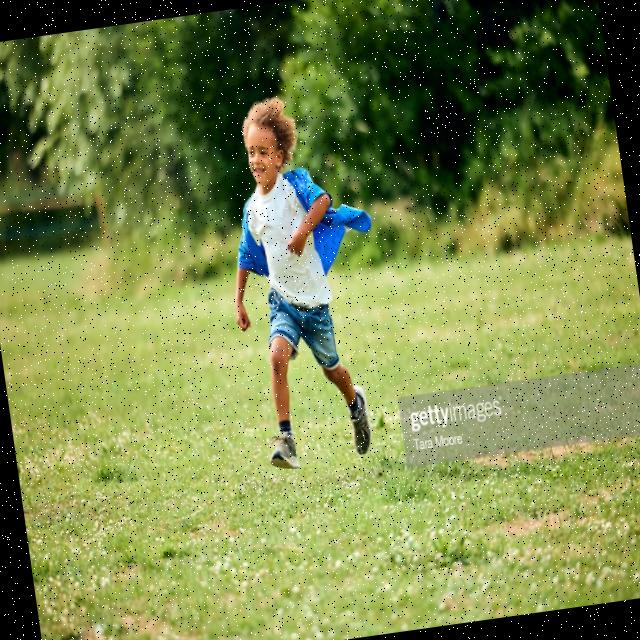Person: (206, 86, 404, 474)
